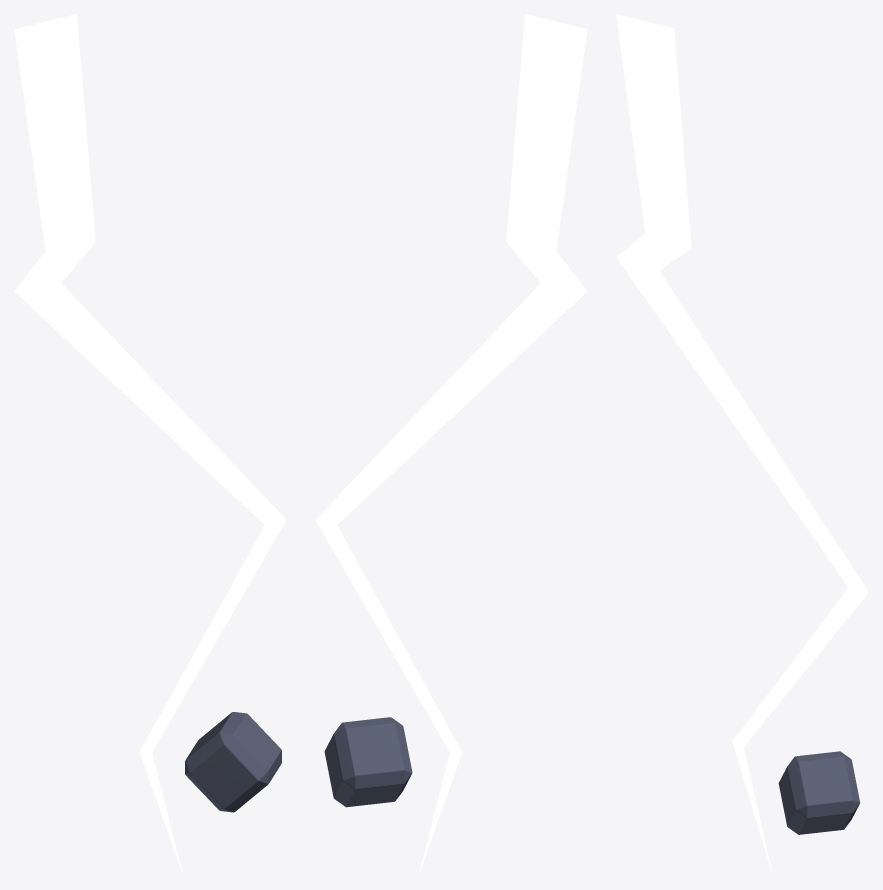
File: hex.glb
3 renders of one model, left to right at view 1: azimuth 30°, elevation 25°; view 2: azimuth 150°, elevation 25°; view 3: azimuth 330°, elevation 25°, orthographic. The views are drawn at different scales.
Parts seen in each view (by area): view 1: Lightning, Hex; view 2: Lightning, Hex; view 3: Lightning, Hex.
Part boxes in pixels (x1,y1,x2,y2): Lightning: [14, 14, 286, 873]; Hex: [185, 712, 281, 812]; Lightning: [315, 14, 587, 873]; Hex: [324, 717, 412, 807]; Lightning: [616, 14, 868, 873]; Hex: [778, 751, 860, 834].
Size of what is drawn, in the model's own units: 8.7 by 27.1 by 2.8.
